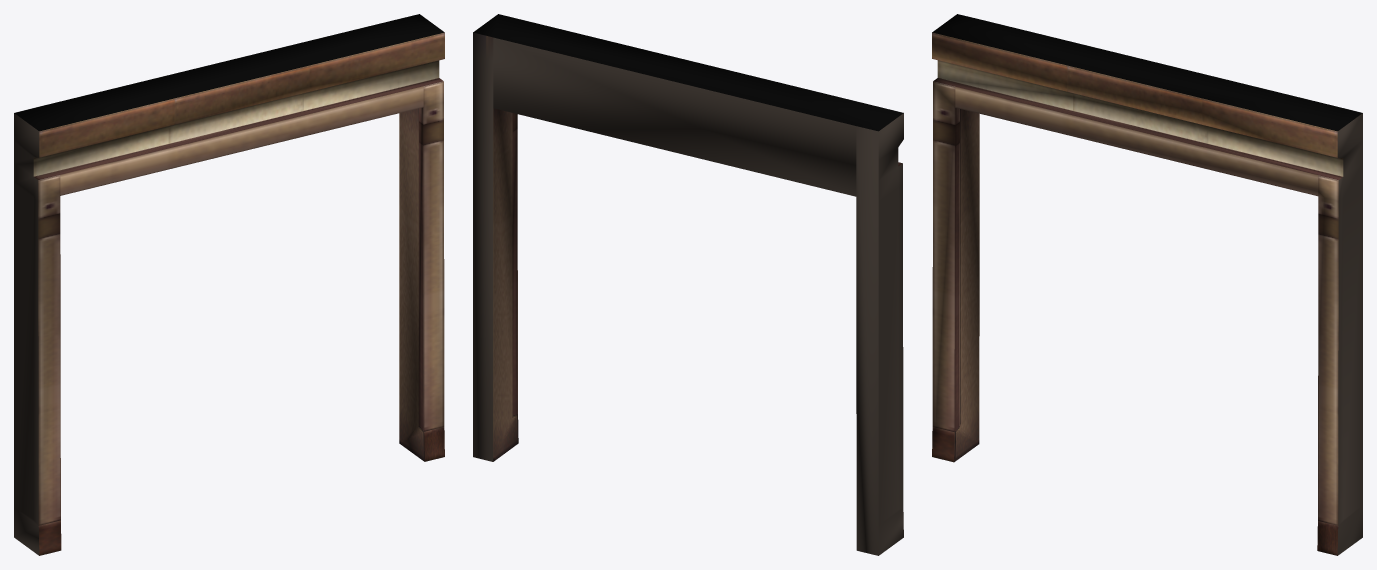
File: a_SCwall04_2.glb
The picture shows the model from 3 angles, left to right: view 1: azimuth 30°, elevation 25°; view 2: azimuth 150°, elevation 25°; view 3: azimuth 330°, elevation 25°; orthographic projection.
Parts seen in each view (by area): view 1: a_SCwall04_2; view 2: a_SCwall04_2; view 3: a_SCwall04_2.
Part boxes in pixels (box(x1,y1,x2,y2)): a_SCwall04_2: box(14, 14, 444, 555); a_SCwall04_2: box(473, 14, 903, 555); a_SCwall04_2: box(932, 14, 1362, 555).
Size of the model in its own units: 3 by 3 by 0.3256.
Materials: 3 (3 with a texture image).
